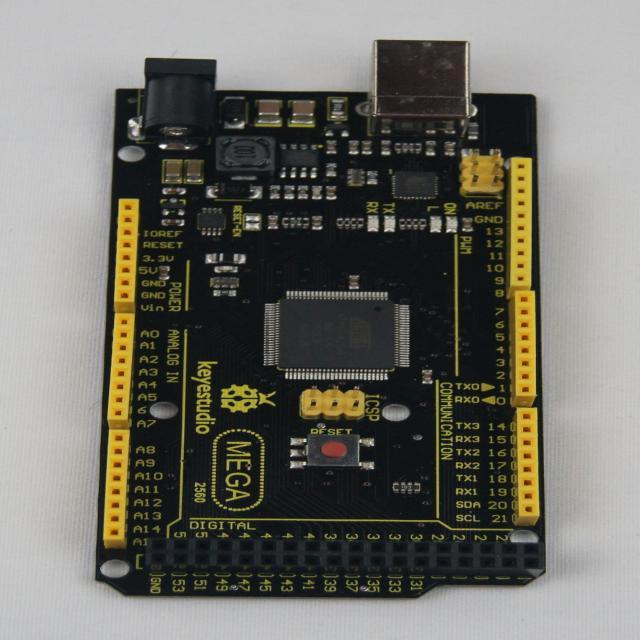Arduino Mega 2560 -Yellow-: (96, 42, 545, 598)
